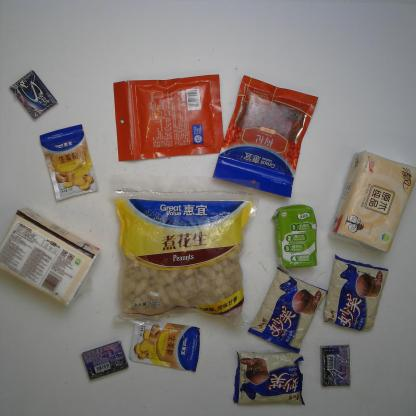Dessert: (245, 266, 328, 355), (324, 253, 389, 333), (233, 344, 307, 407)
Dried Food: (110, 172, 262, 330)
Dried Fruit: (213, 74, 321, 199), (109, 72, 226, 165)
Gum: (7, 67, 60, 122), (80, 338, 130, 382), (317, 342, 352, 386)
Milk: (272, 201, 318, 269)
Seasoner: (37, 122, 100, 202), (128, 315, 202, 372)
Tissue: (0, 207, 102, 306), (329, 150, 416, 256)
